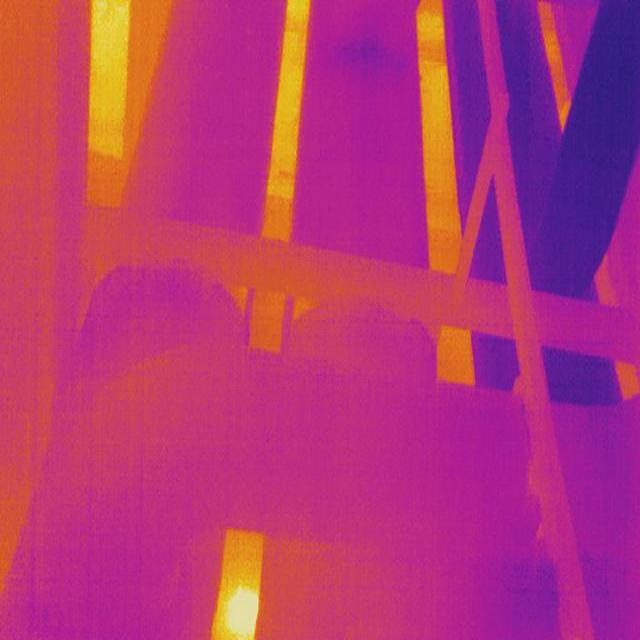leakage: (326, 32, 410, 75)
